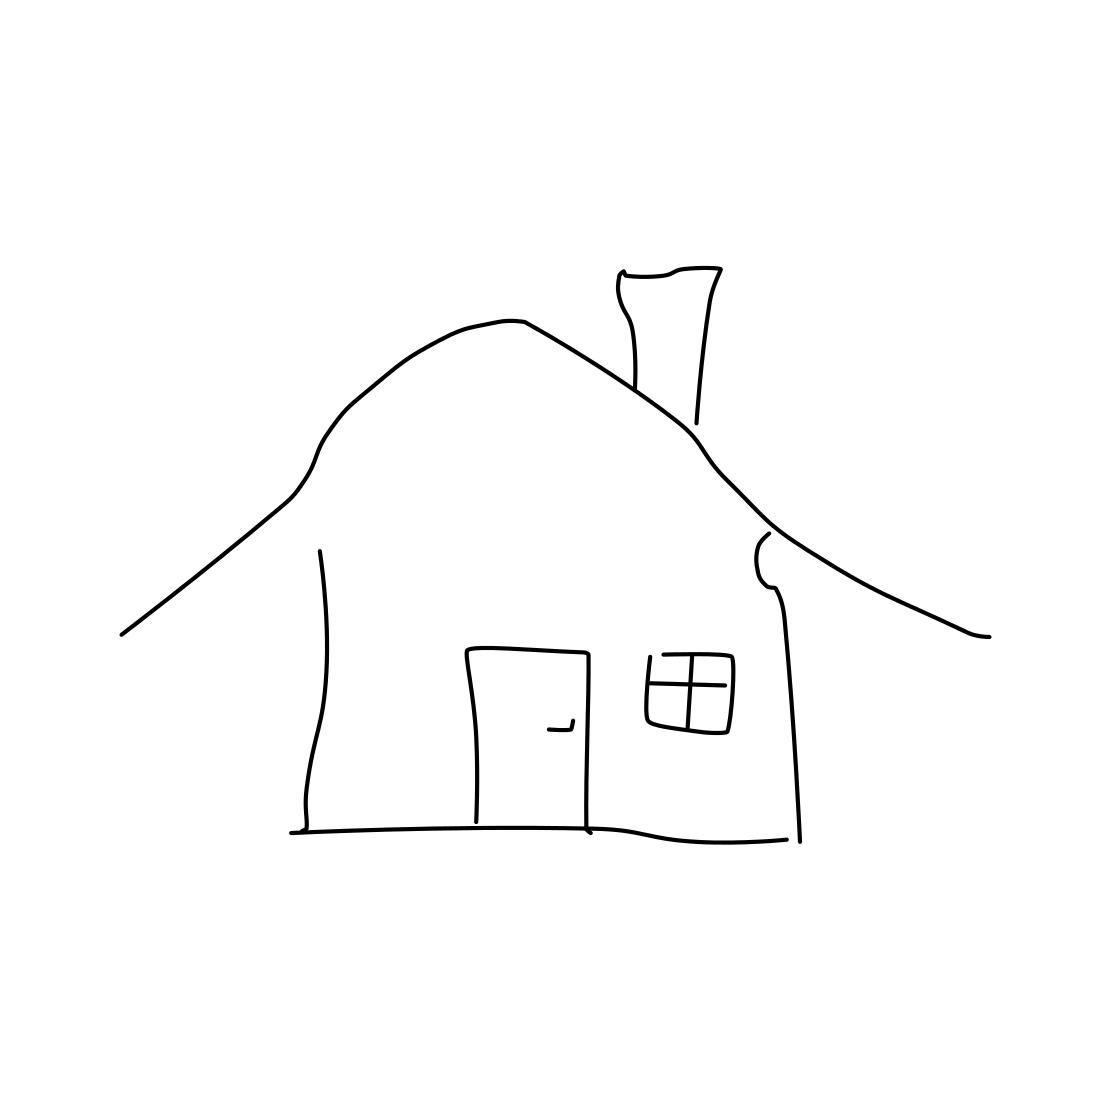House: (110, 260, 1019, 874)
